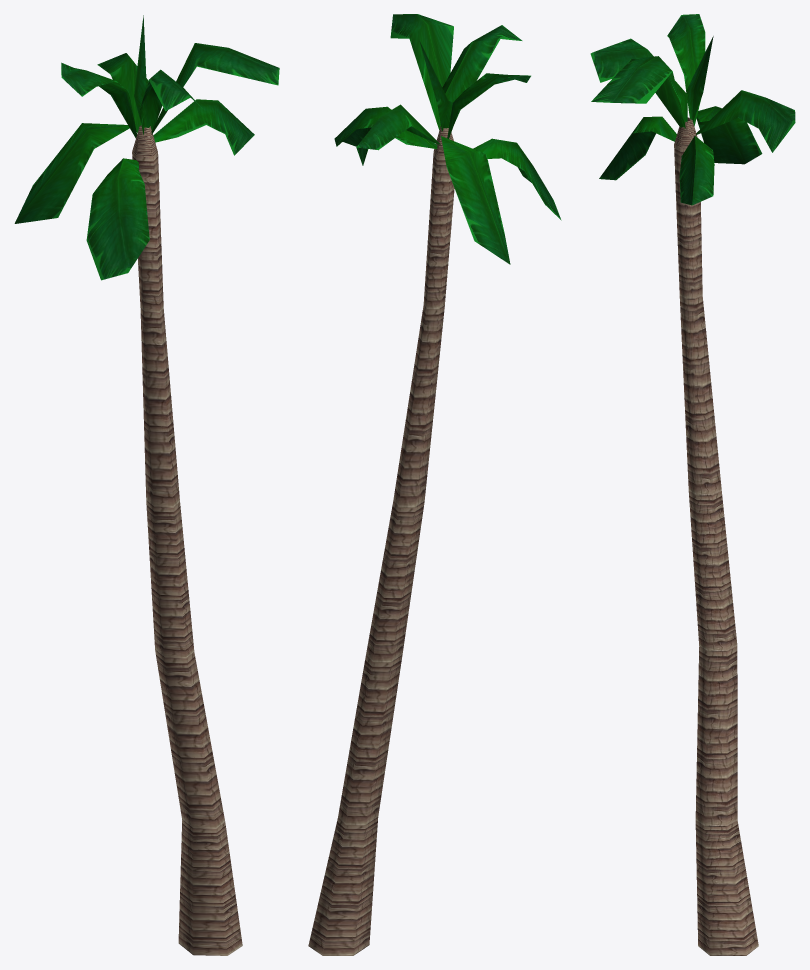
File: palm_static_b.fbx
The picture shows the model from 3 angles, left to right: view 1: azimuth 30°, elevation 25°; view 2: azimuth 150°, elevation 25°; view 3: azimuth 270°, elevation 25°; orthographic projection. The views are drawn at different scales.
Parts seen in each view (by area): view 1: palm_2_trunk, palm_2_leaves; view 2: palm_2_trunk, palm_2_leaves; view 3: palm_2_trunk, palm_2_leaves.
Boxes of the visible parts, x1=… form: palm_2_trunk: x1=132, y1=125, x2=242, y2=955; palm_2_leaves: x1=14, y1=15, x2=279, y2=280; palm_2_trunk: x1=308, y1=126, x2=454, y2=955; palm_2_leaves: x1=334, y1=14, x2=561, y2=264; palm_2_trunk: x1=674, y1=117, x2=758, y2=955; palm_2_leaves: x1=590, y1=14, x2=795, y2=205.
Size of the model in its own units: 1506 by 6478 by 1372.
2 materials, 2 textured.
